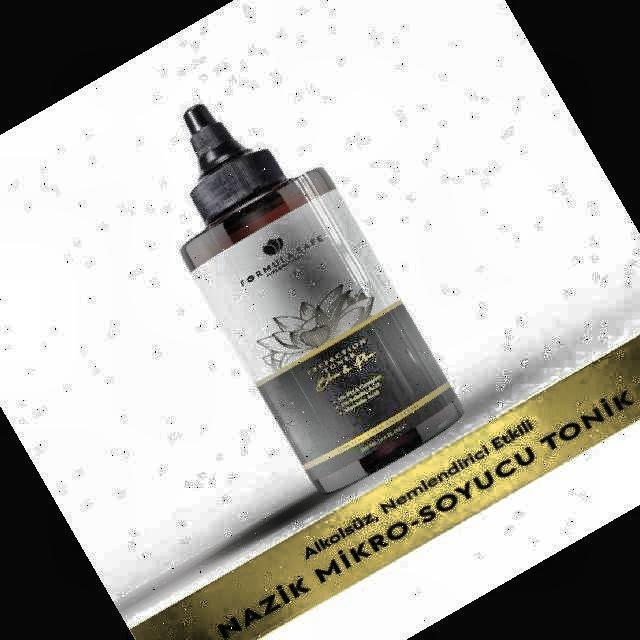plastic: (184, 105, 462, 493)
